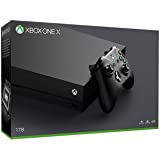gamingconsole: (92, 46, 134, 114)
